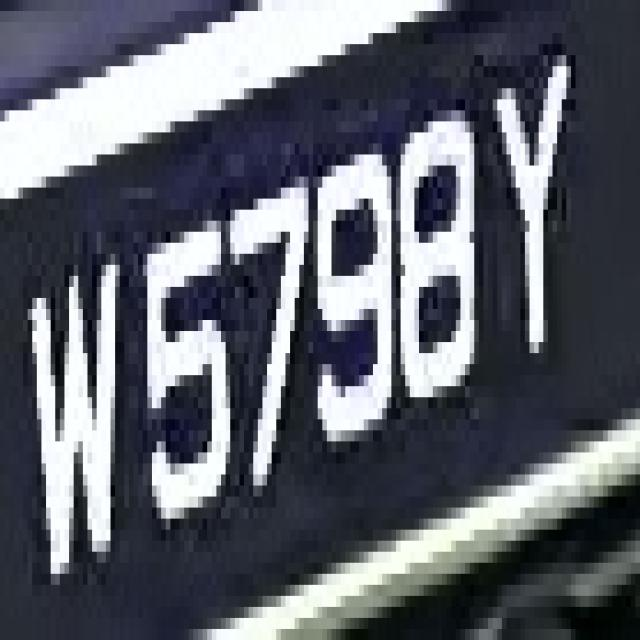5: (138, 188, 230, 540)
7: (203, 198, 322, 508)
8: (391, 88, 488, 430)
9: (299, 110, 401, 497)
W: (14, 232, 133, 562)
Y: (474, 22, 580, 364)
